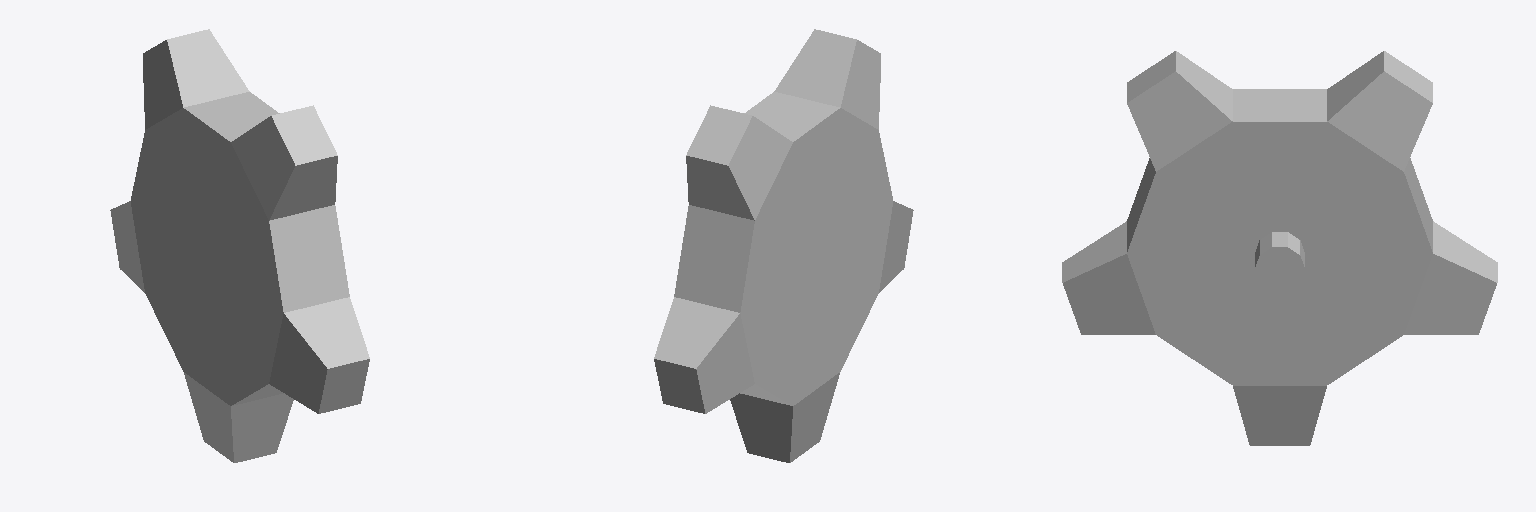
Rendered from gearbox_gear.obj.
3 views of the same model, side by side, from view 1: azimuth 30°, elevation 25°; view 2: azimuth 150°, elevation 25°; view 3: azimuth 270°, elevation 25° (orthographic).
Parts seen in each view (by area): view 1: Gear_Cylinder; view 2: Gear_Cylinder; view 3: Gear_Cylinder.
Boxes of the visible parts, x1=… form: Gear_Cylinder: x1=110, y1=29, x2=369, y2=462; Gear_Cylinder: x1=654, y1=29, x2=913, y2=462; Gear_Cylinder: x1=1062, y1=51, x2=1497, y2=445.
Size of the model in its own units: 0.1476 by 0.5402 by 0.568.